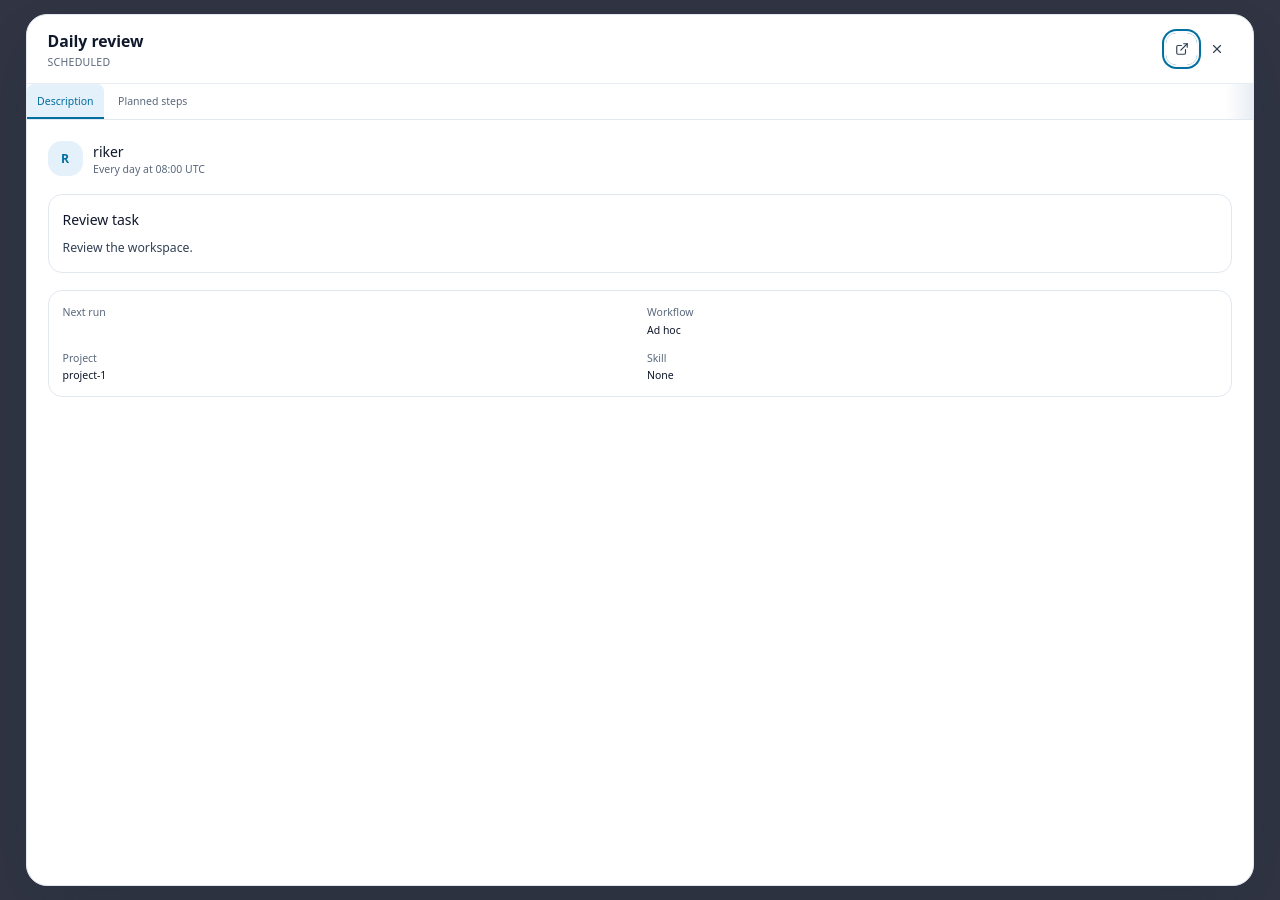
Test: ScheduleDashboardModal › shows the ad-hoc state without a workflow request
The width and height of the screenshot is (1280, 900).
What coordinates should you click on to do the following:
click the tab with test id "dashboard-schedule-modal-tab-steps"
I would click on:
 (153, 102)
Its box is [108,84,198,119].
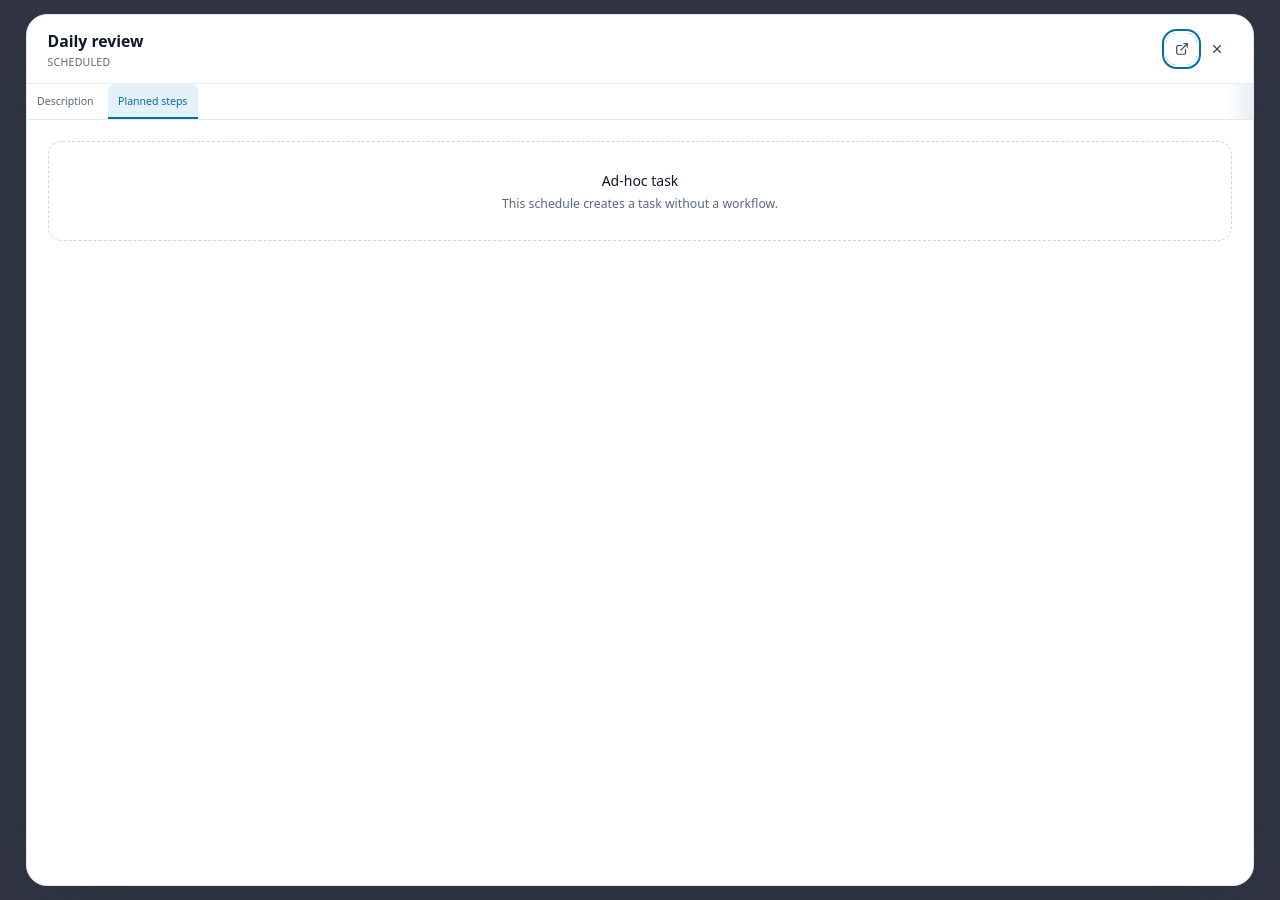
Now the element with test id "dashboard-schedule-ad-hoc" is shown, box [48,141,1232,241]
